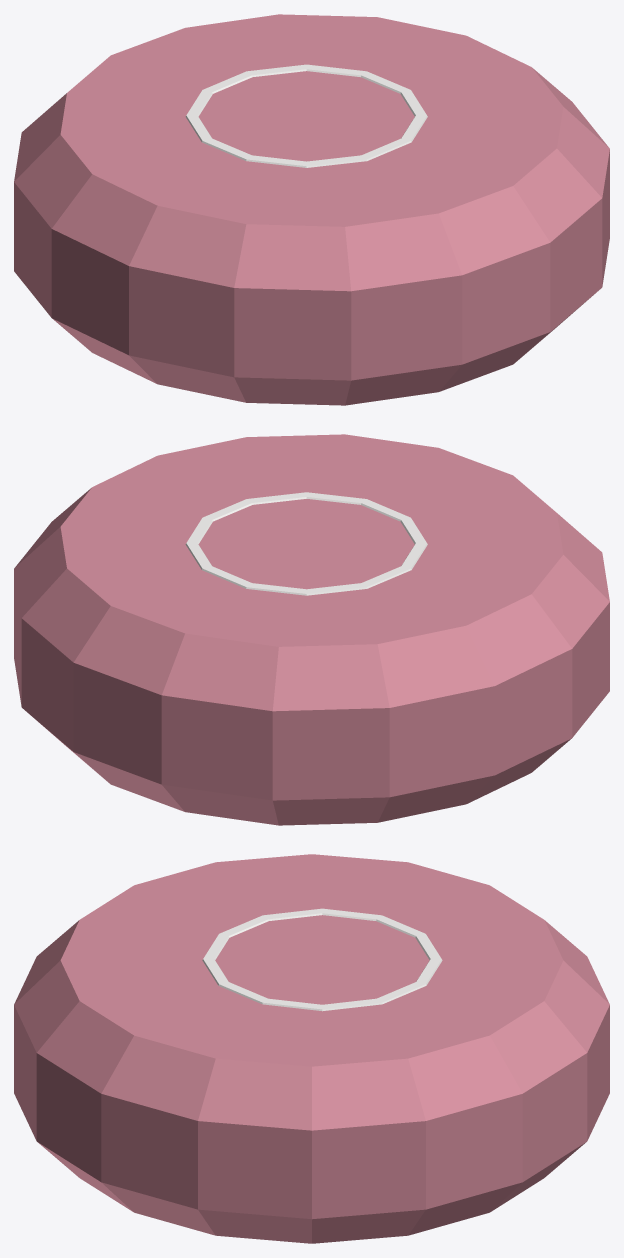
File: Pillow_5.fbx
3 views of the same model, one above another, from view 1: azimuth 30°, elevation 25°; view 2: azimuth 150°, elevation 25°; view 3: azimuth 270°, elevation 25° (orthographic).
Visible parts, largest first — view 1: Pillow_5; view 2: Pillow_5; view 3: Pillow_5.
Part boxes in pixels (x1,y1,x2,y2): Pillow_5: (14,14,609,405); Pillow_5: (14,434,609,825); Pillow_5: (14,854,609,1243).
Bounding box in the file's own units: 42 × 42 × 13.88.
